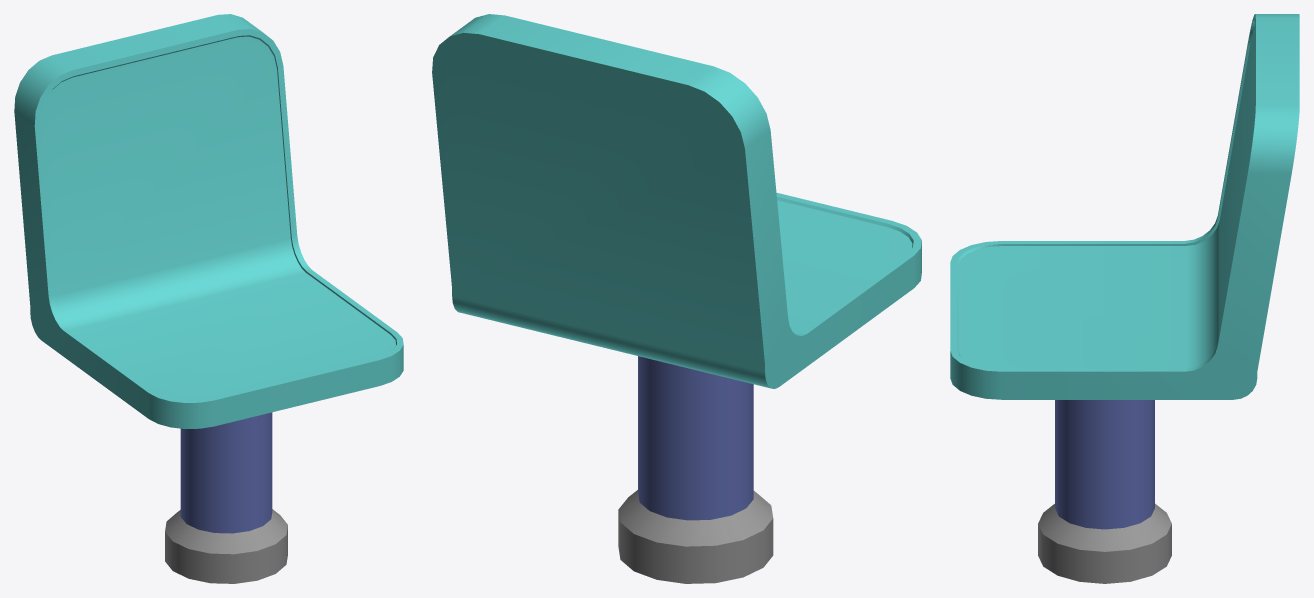
File: Station Seat.fbx
3 renders of one model, left to right at view 1: azimuth 30°, elevation 25°; view 2: azimuth 150°, elevation 25°; view 3: azimuth 270°, elevation 25°, orthographic. The views are drawn at different scales.
Visible parts, largest first — view 1: Bench Seat.001, Bench Frame.001; view 2: Bench Seat.001, Bench Frame.001; view 3: Bench Seat.001, Bench Frame.001.
Part boxes in pixels (x1,y1,x2,y2): Bench Seat.001: (14, 14, 403, 428); Bench Frame.001: (165, 412, 287, 583); Bench Seat.001: (432, 14, 921, 388); Bench Frame.001: (618, 356, 773, 583); Bench Seat.001: (950, 14, 1299, 399); Bench Frame.001: (1038, 400, 1171, 583).
Bounding box in the file's own units: 200 × 351 × 226.
